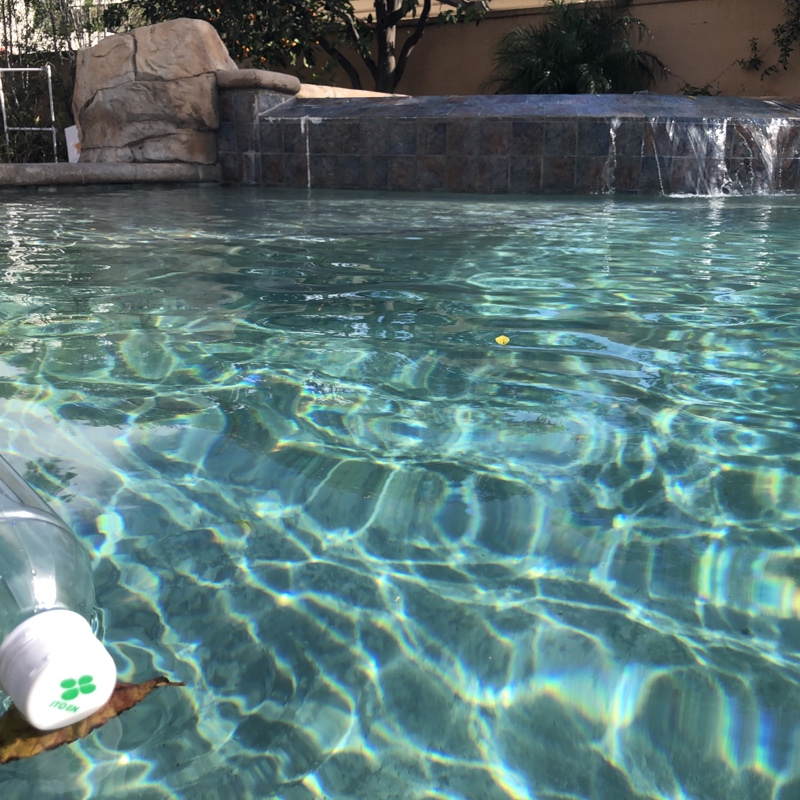Plastic Bottle: (1, 444, 126, 747)
